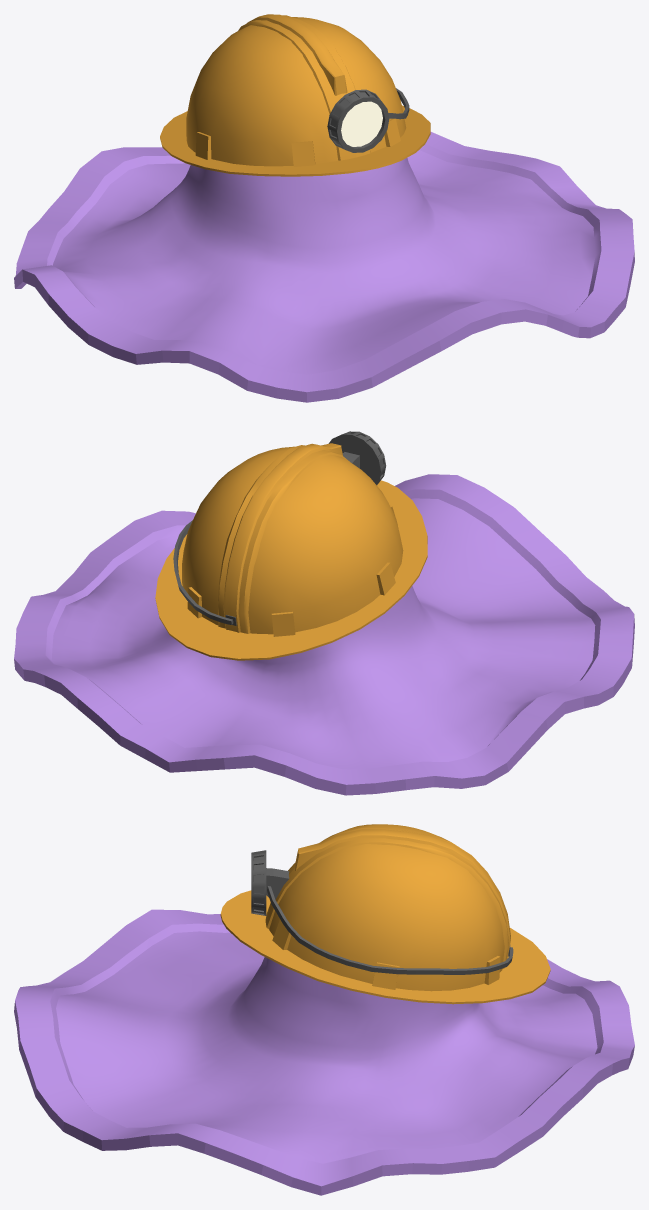
File: Blobby_Guy.glb
3 renders of one model, top to bottom at view 1: azimuth 30°, elevation 25°; view 2: azimuth 150°, elevation 25°; view 3: azimuth 270°, elevation 25°, orthographic.
Parts seen in each view (by area): view 1: Sphere.002, Sphere.001, Cylinder, Plane, Plane.001; view 2: Sphere.002, Sphere.001, Plane, Plane.001, Cylinder, Plane.004; view 3: Sphere.002, Sphere.001, Plane, Plane.001, Plane.004, Cylinder.
Part boxes in pixels (left/top/right/bottom): Sphere.002: left=14, top=132, right=634, bottom=402; Sphere.001: left=160, top=17, right=430, bottom=176; Cylinder: left=327, top=89, right=389, bottom=152; Plane: left=238, top=15, right=370, bottom=160; Plane.001: left=247, top=14, right=347, bottom=95; Sphere.002: left=14, top=474, right=634, bottom=795; Sphere.001: left=155, top=446, right=427, bottom=660; Plane: left=218, top=445, right=349, bottom=633; Plane.001: left=223, top=443, right=342, bottom=632; Cylinder: left=328, top=431, right=386, bottom=485; Plane.004: left=173, top=520, right=233, bottom=624; Sphere.002: left=14, top=909, right=634, bottom=1195; Sphere.001: left=220, top=824, right=550, bottom=1004; Plane: left=265, top=828, right=508, bottom=968; Plane.001: left=295, top=829, right=510, bottom=959; Plane.004: left=267, top=886, right=513, bottom=974; Cylinder: left=251, top=850, right=266, bottom=915.
Size of the model in its own units: 0.8445 by 0.3557 by 0.8415.
